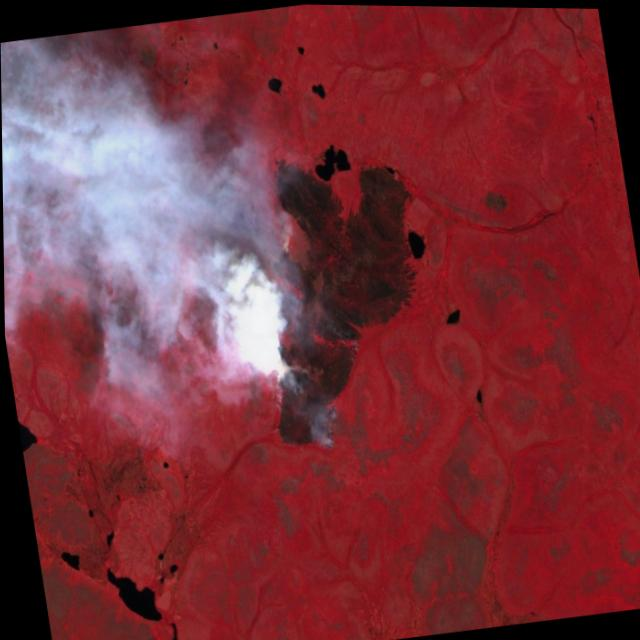fire: (229, 231, 351, 465)
